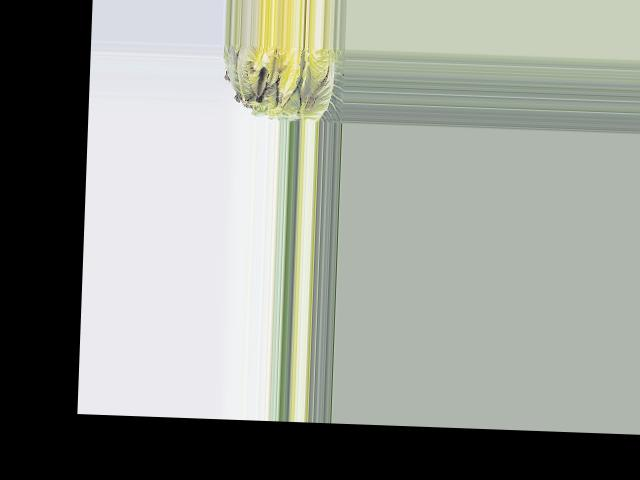lettuce: (225, 43, 345, 120)
